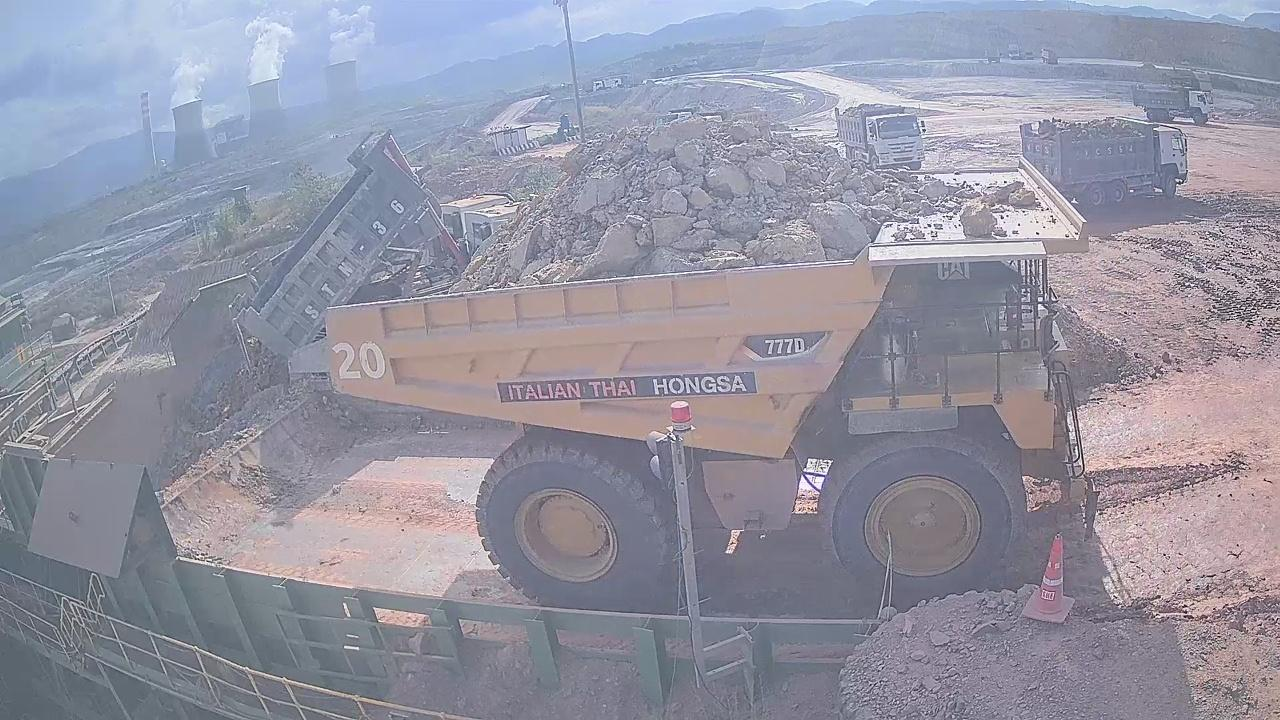company: (490, 367, 768, 410)
full_load: (481, 106, 941, 281)
mining_truck: (321, 87, 1099, 623)
tail_number: (331, 338, 401, 384)
truck_size: (738, 329, 833, 363)
